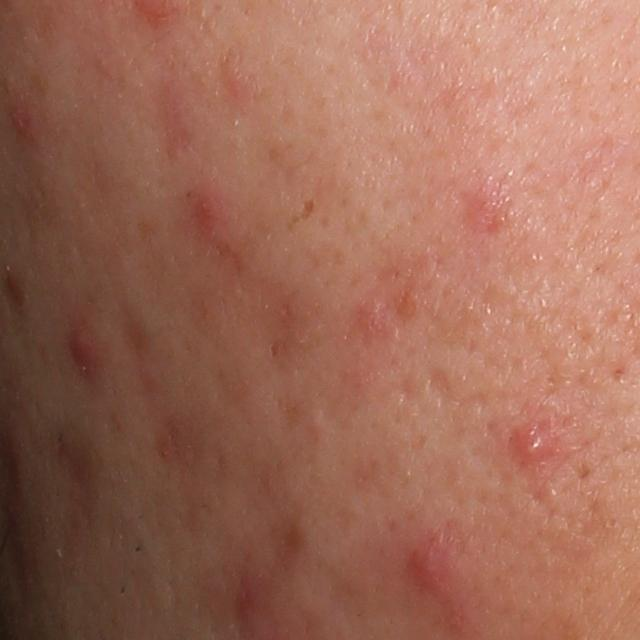atrophic_scar: (42, 417, 108, 534), (428, 368, 491, 411)
papule: (404, 528, 469, 597), (459, 181, 515, 236), (59, 317, 104, 382), (507, 418, 561, 467), (355, 294, 399, 346), (194, 188, 228, 246), (9, 104, 38, 137)
